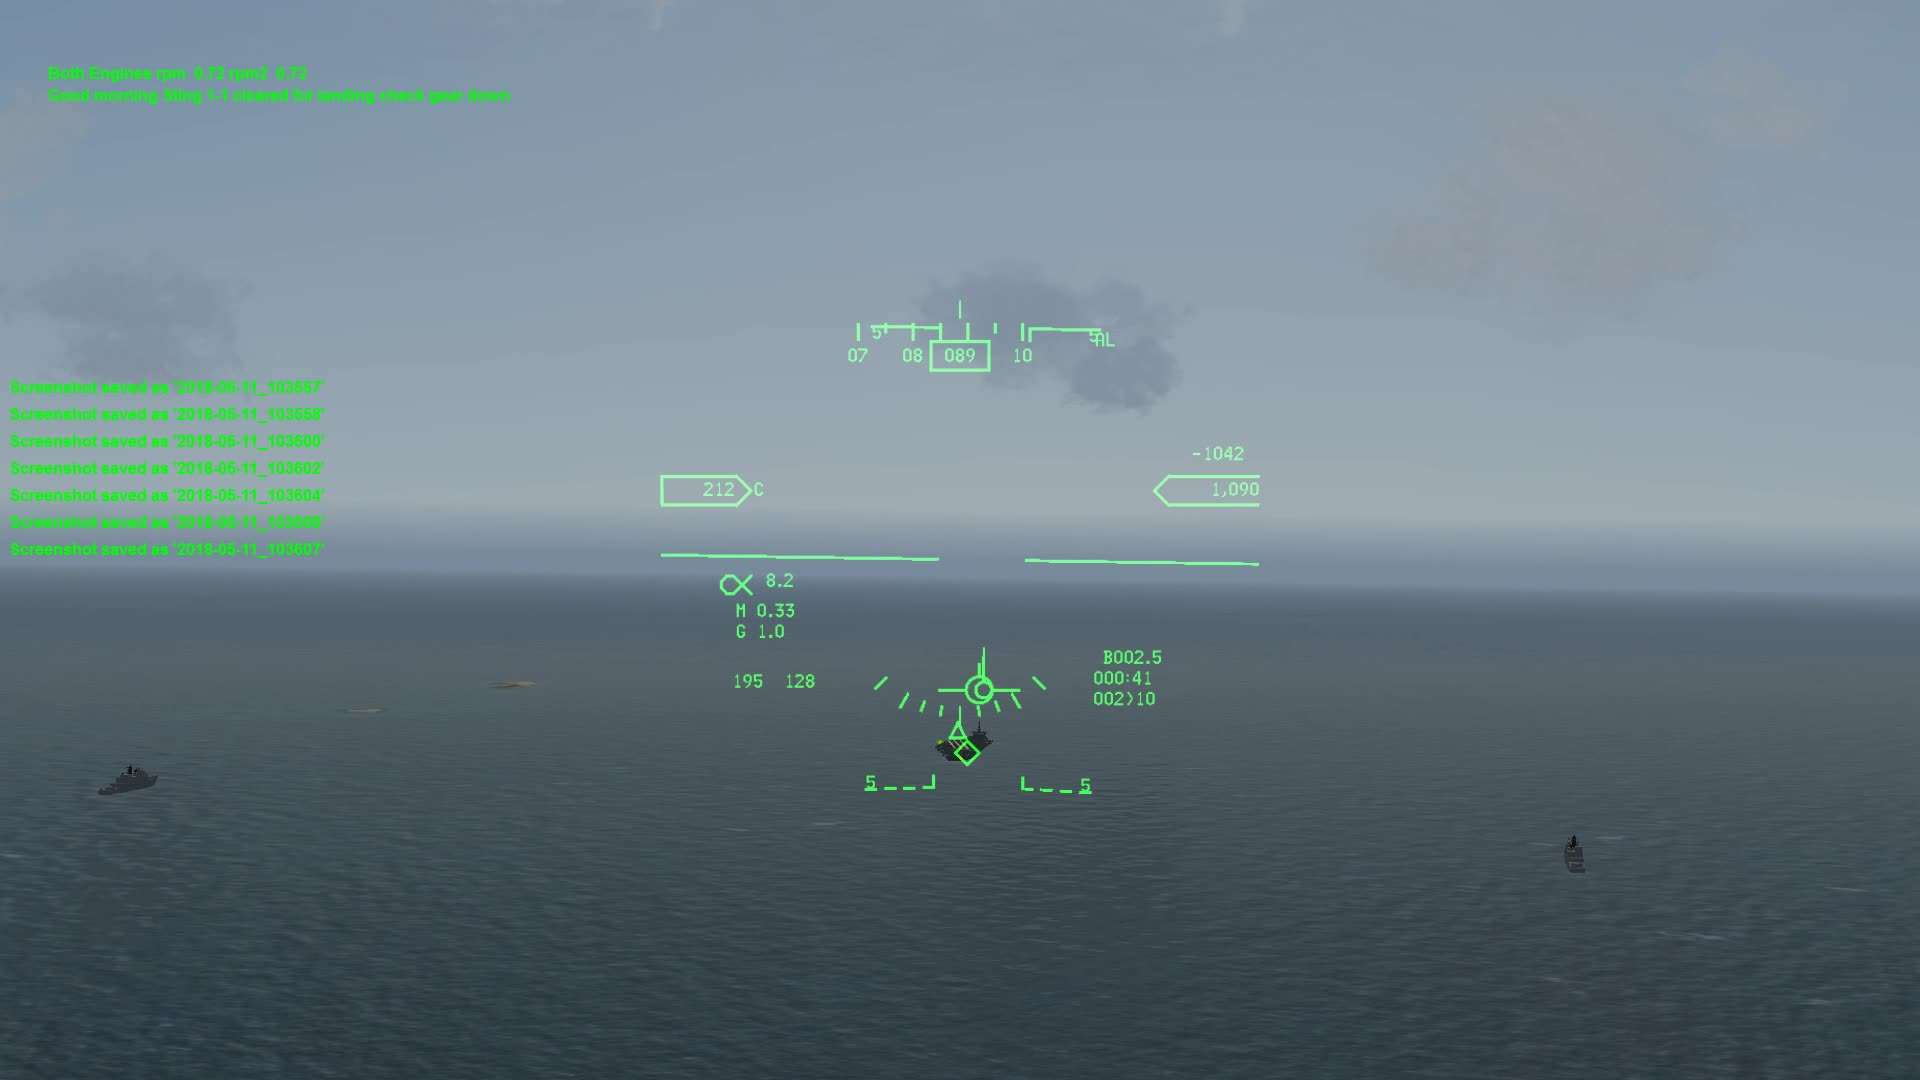speed vector: (927, 647, 1023, 704)
